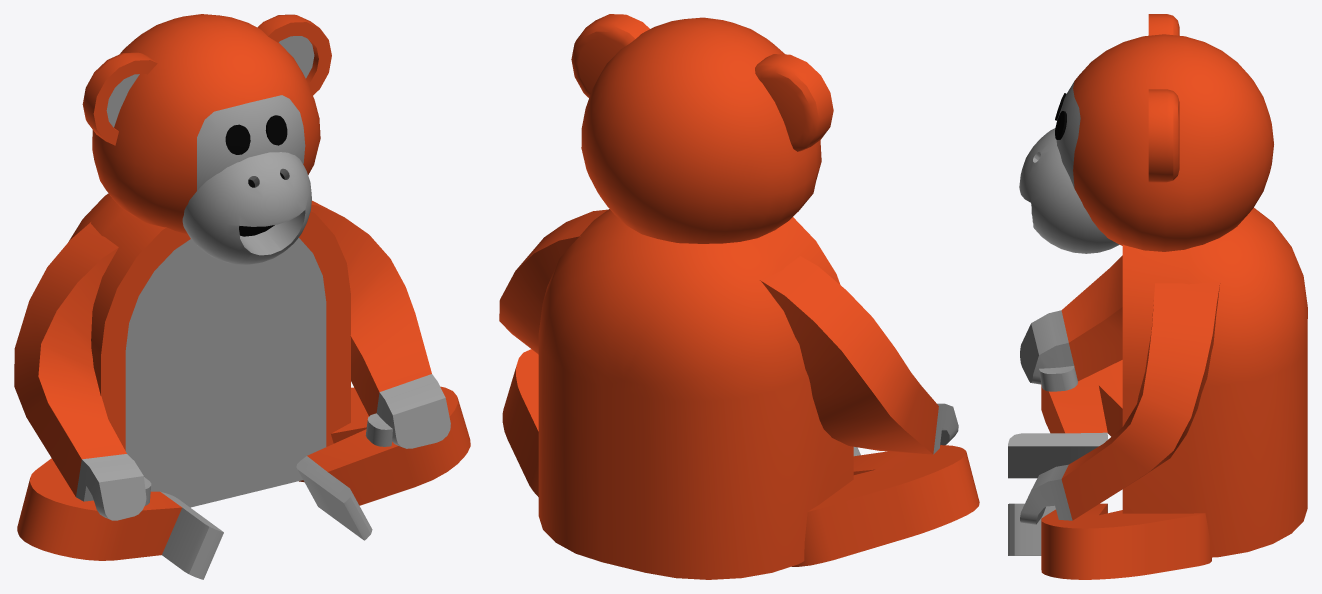
Rendered from orangutan.fbx.
3 renders of one model, left to right at view 1: azimuth 30°, elevation 25°; view 2: azimuth 150°, elevation 25°; view 3: azimuth 270°, elevation 25°, orthographic. The views are drawn at different scales.
Visible parts, largest first — view 1: Cube.6151; view 2: Cube.6151; view 3: Cube.6151.
Part boxes in pixels (left/top/right/bottom): Cube.6151: left=14, top=14, right=470, bottom=579; Cube.6151: left=499, top=14, right=979, bottom=579; Cube.6151: left=1008, top=14, right=1307, bottom=579.
Bounding box in the file's own units: 212 × 219 × 126.
Materials: 1 (1 with a texture image).
